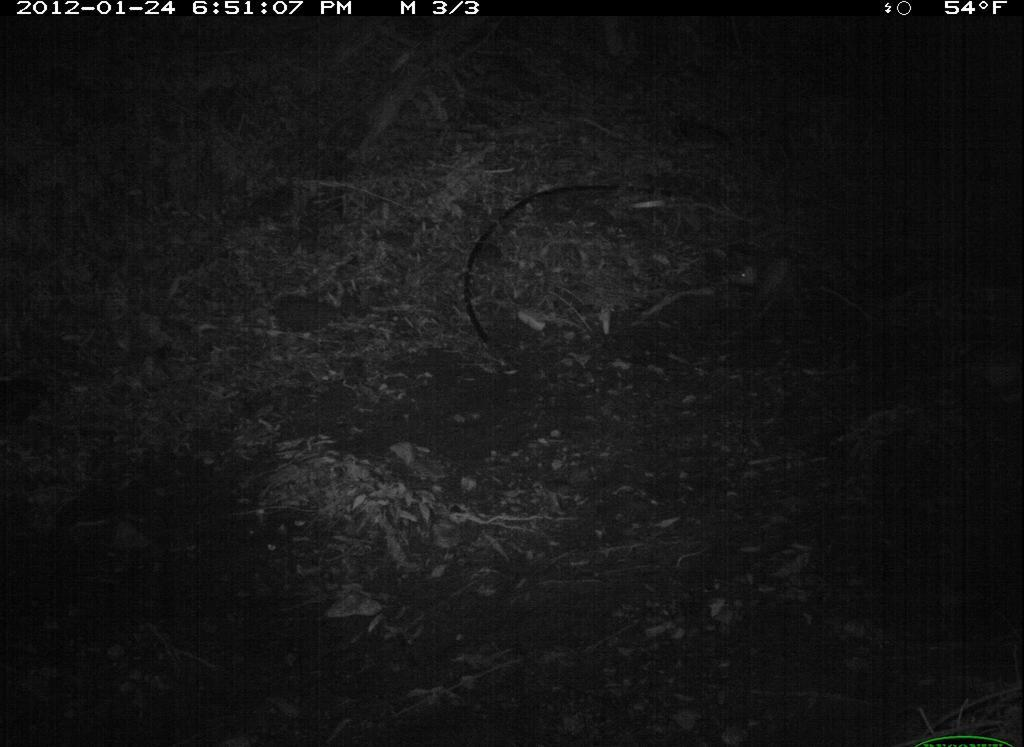opossum: (683, 208, 830, 354)
